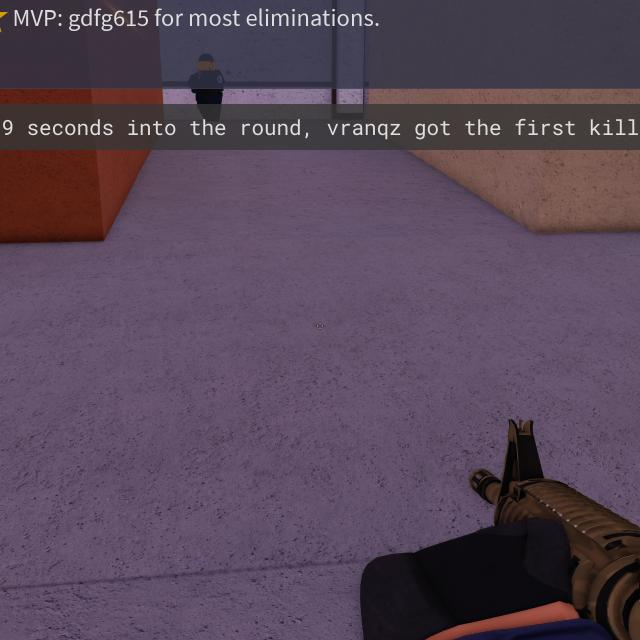Head: (197, 54, 217, 71)
Player: (189, 54, 226, 122)
